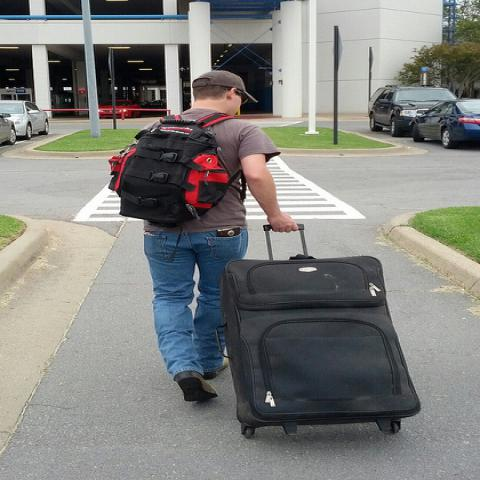car: (368, 86, 460, 136), (411, 98, 479, 150), (0, 100, 50, 140), (98, 100, 143, 118), (0, 112, 18, 146)
